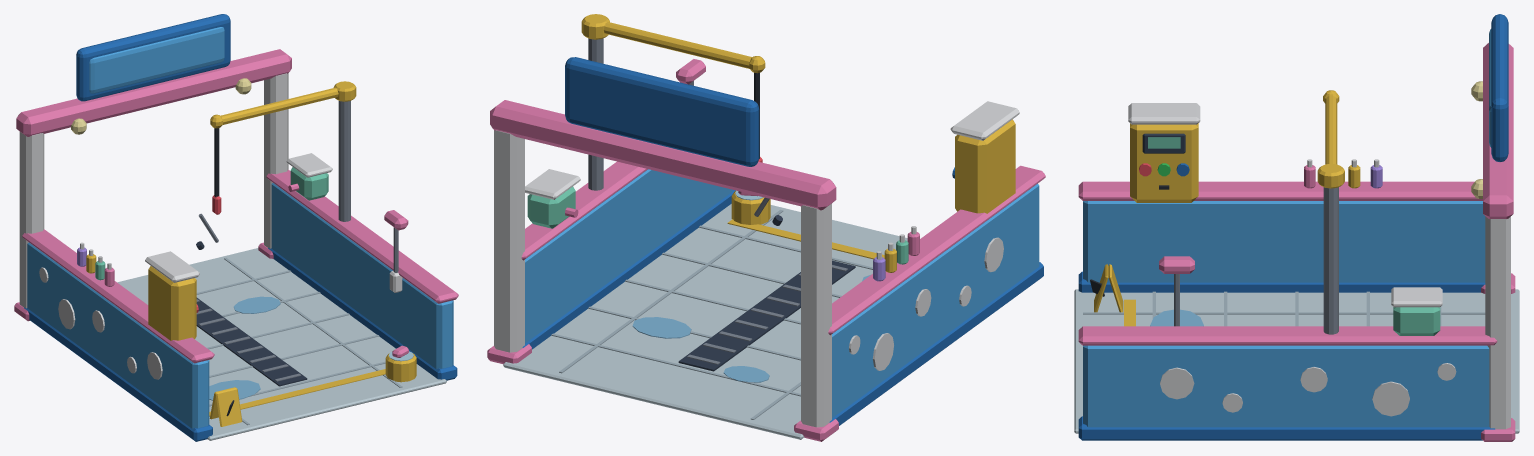
File: wash-bay.glb
3 renders of one model, left to right at view 1: azimuth 30°, elevation 25°; view 2: azimuth 150°, elevation 25°; view 3: azimuth 270°, elevation 25°, orthographic. The views are drawn at different scales.
Parts seen in each view (by area): view 1: wash_bay; view 2: wash_bay; view 3: wash_bay.
Boxes of the visible parts, left/top/right/bottom form: wash_bay: left=14, top=14, right=458, bottom=441; wash_bay: left=487, top=14, right=1045, bottom=441; wash_bay: left=1074, top=14, right=1519, bottom=441.
Bounding box in the file's own units: 4.42 × 3.97 × 5.2.
